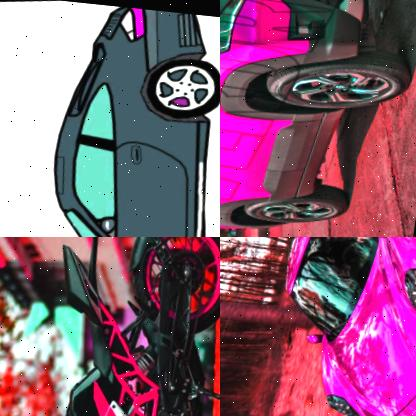bike: (0, 237, 220, 416)
car: (14, 0, 220, 237), (220, 0, 416, 237), (260, 237, 416, 416)
